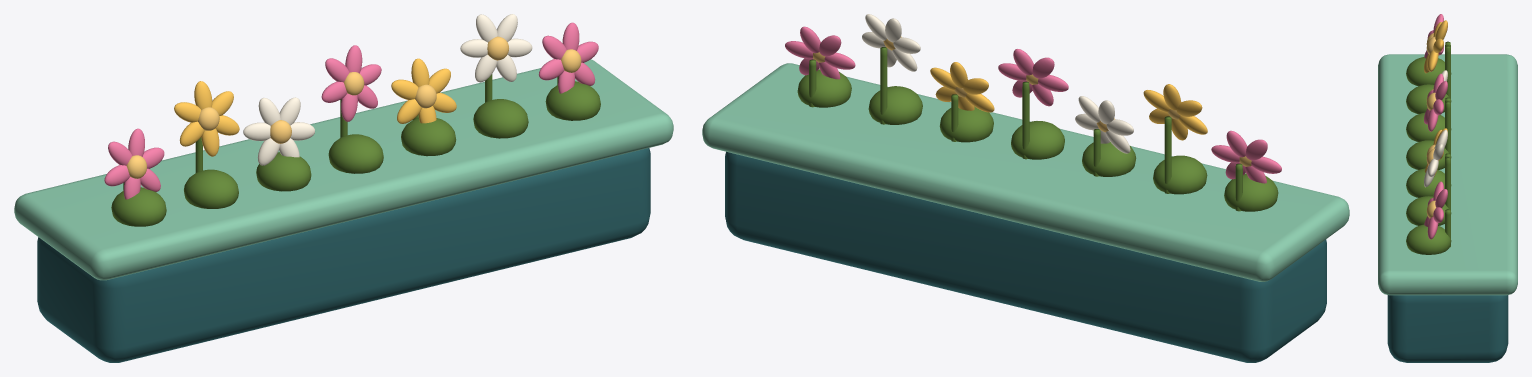
The model's file is window-flower-box.obj.
The picture shows the model from 3 angles, left to right: view 1: azimuth 30°, elevation 25°; view 2: azimuth 150°, elevation 25°; view 3: azimuth 270°, elevation 25°; orthographic projection. The views are drawn at different scales.
Visible parts, largest first — view 1: window-flower-box_teal, window-flower-box_mint, window-flower-box_leaf, window-flower-box_petalPink, window-flower-box_cream, window-flower-box_petalYellow, window-flower-box_seed; view 2: window-flower-box_teal, window-flower-box_mint, window-flower-box_leaf, window-flower-box_petalPink, window-flower-box_petalYellow, window-flower-box_cream, window-flower-box_seed; view 3: window-flower-box_mint, window-flower-box_teal, window-flower-box_leaf, window-flower-box_petalPink, window-flower-box_petalYellow, window-flower-box_cream, window-flower-box_seed.
Part boxes in pixels (bbox=[...]): window-flower-box_teal: bbox=[37, 148, 650, 362]; window-flower-box_mint: bbox=[14, 59, 673, 280]; window-flower-box_leaf: bbox=[111, 74, 600, 226]; window-flower-box_petalPink: bbox=[104, 22, 598, 199]; window-flower-box_cream: bbox=[243, 14, 532, 165]; window-flower-box_petalYellow: bbox=[174, 58, 456, 156]; window-flower-box_seed: bbox=[126, 36, 581, 178]; window-flower-box_teal: bbox=[725, 151, 1326, 362]; window-flower-box_mint: bbox=[702, 63, 1349, 281]; window-flower-box_leaf: bbox=[797, 47, 1278, 211]; window-flower-box_petalPink: bbox=[785, 26, 1281, 183]; window-flower-box_petalYellow: bbox=[930, 62, 1207, 140]; window-flower-box_cream: bbox=[862, 14, 1133, 153]; window-flower-box_seed: bbox=[813, 36, 1251, 166]; window-flower-box_mint: bbox=[1378, 54, 1517, 295]; window-flower-box_teal: bbox=[1387, 295, 1508, 362]; window-flower-box_leaf: bbox=[1406, 41, 1451, 254]; window-flower-box_petalPink: bbox=[1424, 14, 1447, 239]; window-flower-box_petalYellow: bbox=[1424, 20, 1447, 176]; window-flower-box_cream: bbox=[1424, 70, 1447, 187]; window-flower-box_seed: bbox=[1426, 33, 1439, 218].
Bounding box in the file's own units: 1.1 × 0.4245 × 0.29.
